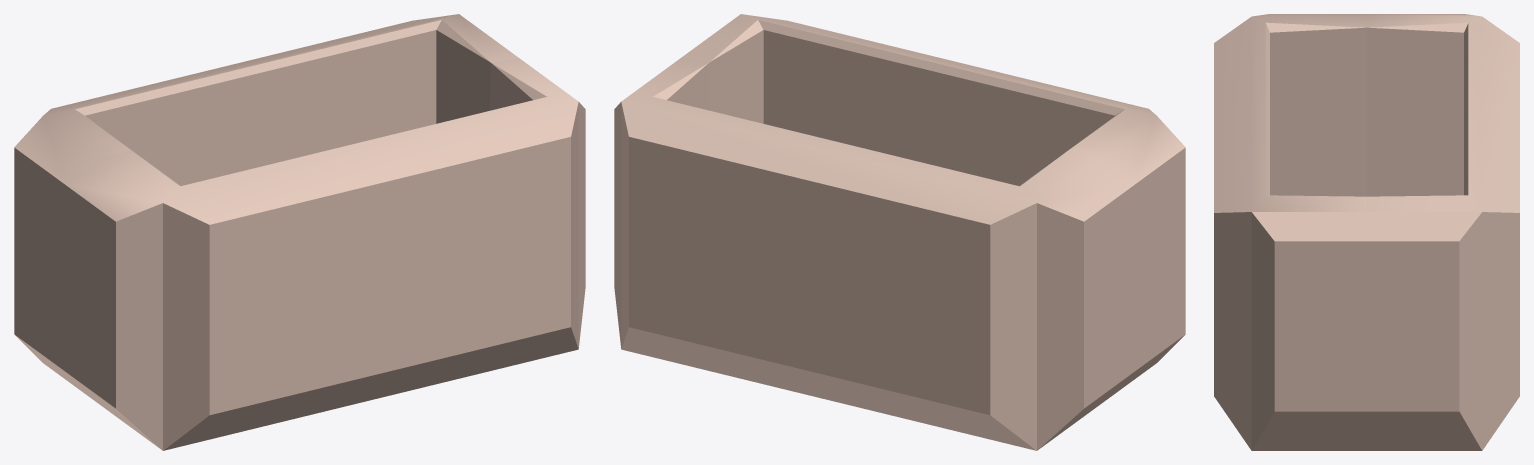
File: Truck_Tank_v1.fbx
3 renders of one model, left to right at view 1: azimuth 30°, elevation 25°; view 2: azimuth 150°, elevation 25°; view 3: azimuth 270°, elevation 25°, orthographic. The views are drawn at different scales.
Visible parts, largest first — view 1: pCube1; view 2: pCube1; view 3: pCube1.
Boxes of the visible parts, x1,y1,x2,y2 form: pCube1: (14,14,585,450); pCube1: (614,14,1185,450); pCube1: (1214,14,1519,450).
Size of the model in its own units: 4.15 by 2.12 by 2.41.
